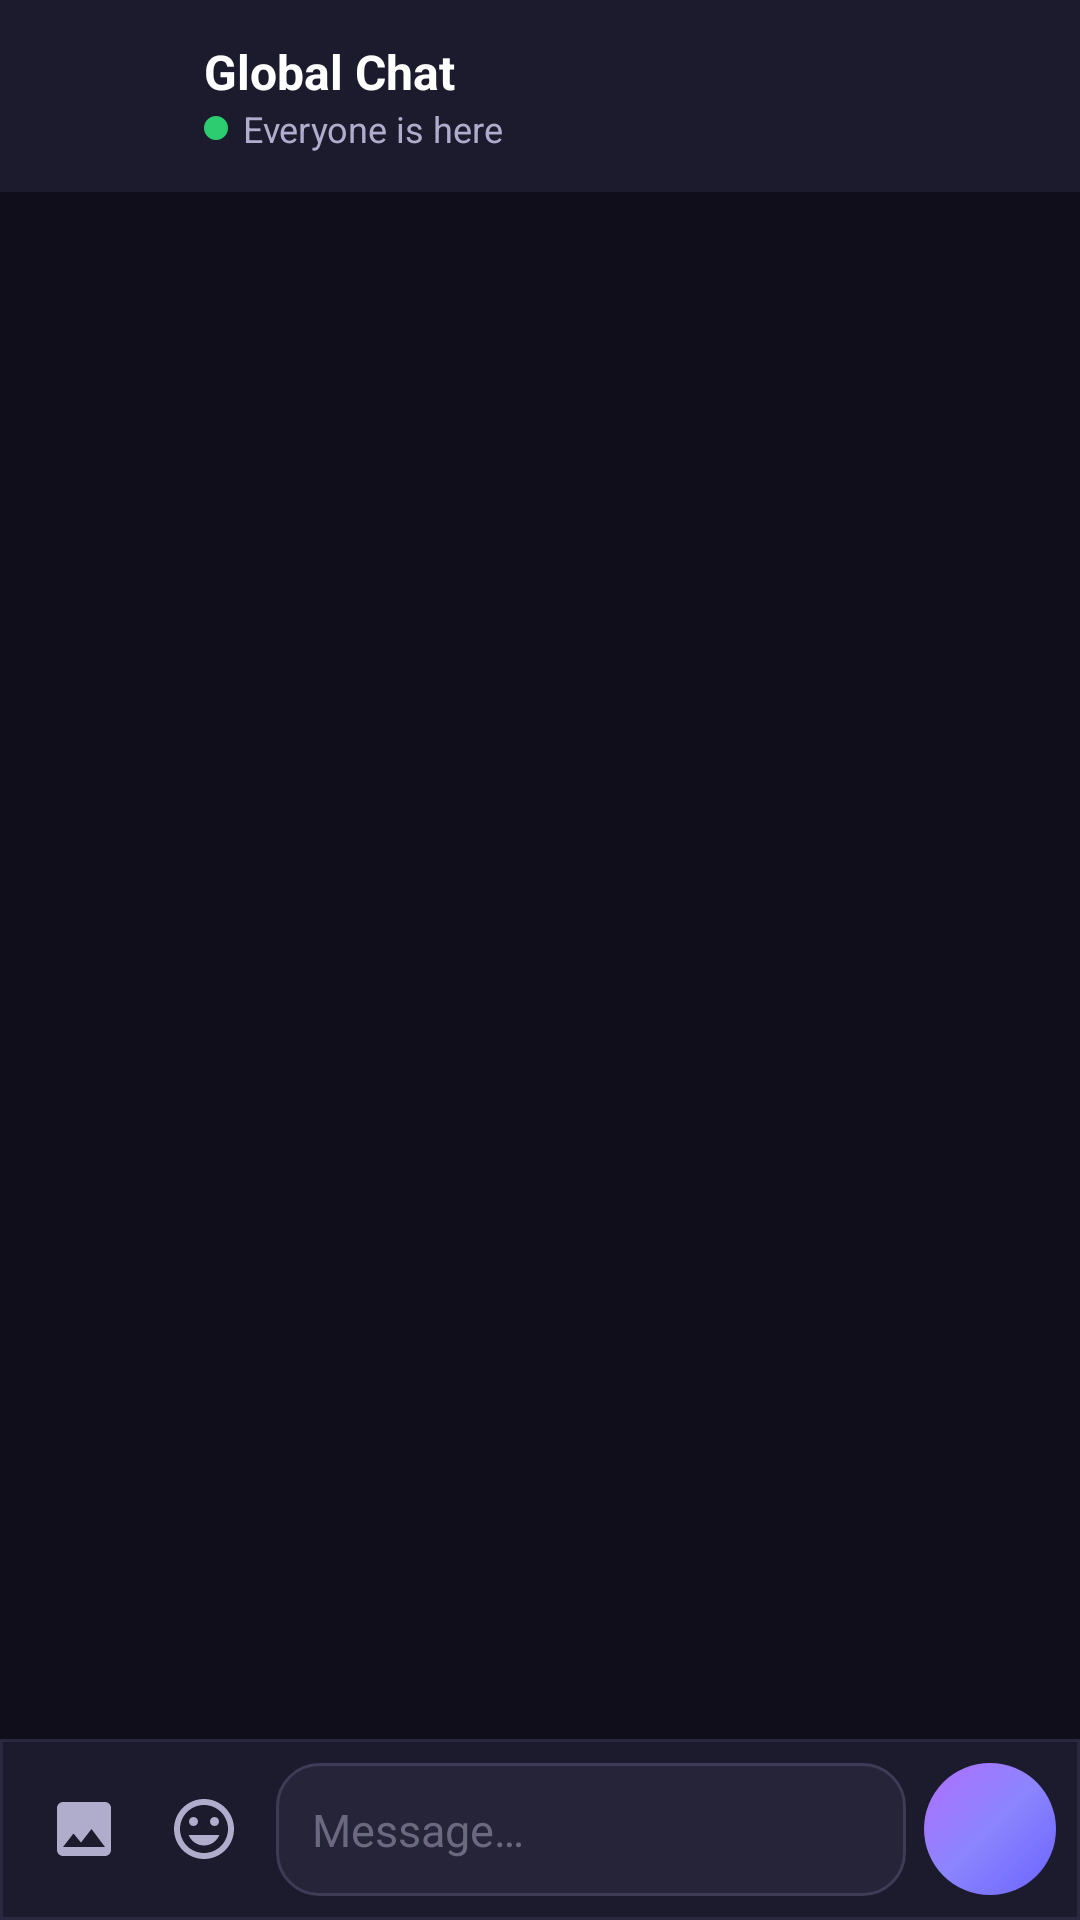

Where to tap for icons on this 1080px x 1920px app screen, as (x,y):
Attach image: (84,1829)
Emoji Section: (204,1829)
